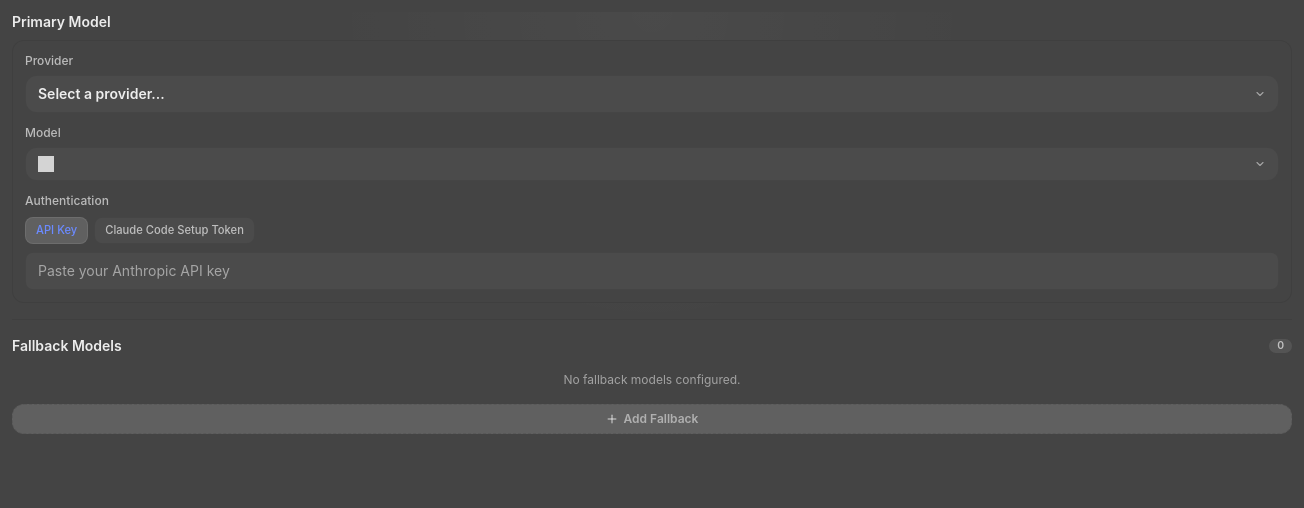
ModelSwitcherPanel › opens the fallback provider/model picker when add fallback is clicked
Click the button with test id "add-fallback-btn".
click(652, 419)  # box x1=12 y1=404 x2=1292 y2=434
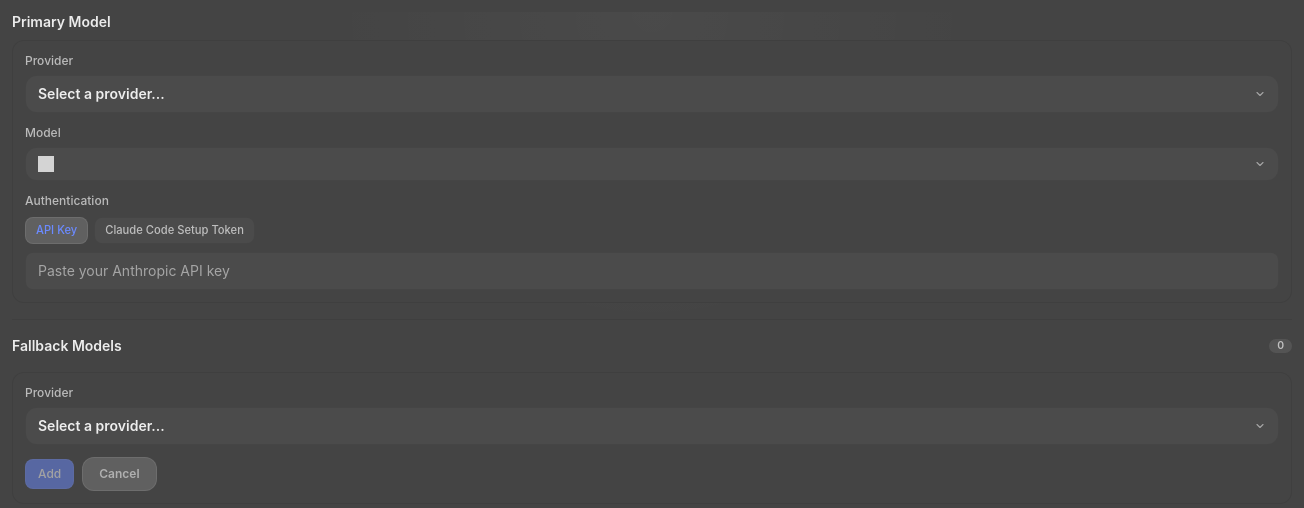
Now the element with test id "fallback-provider-dropdown" is shown, box x1=25 y1=407 x2=1279 y2=445
